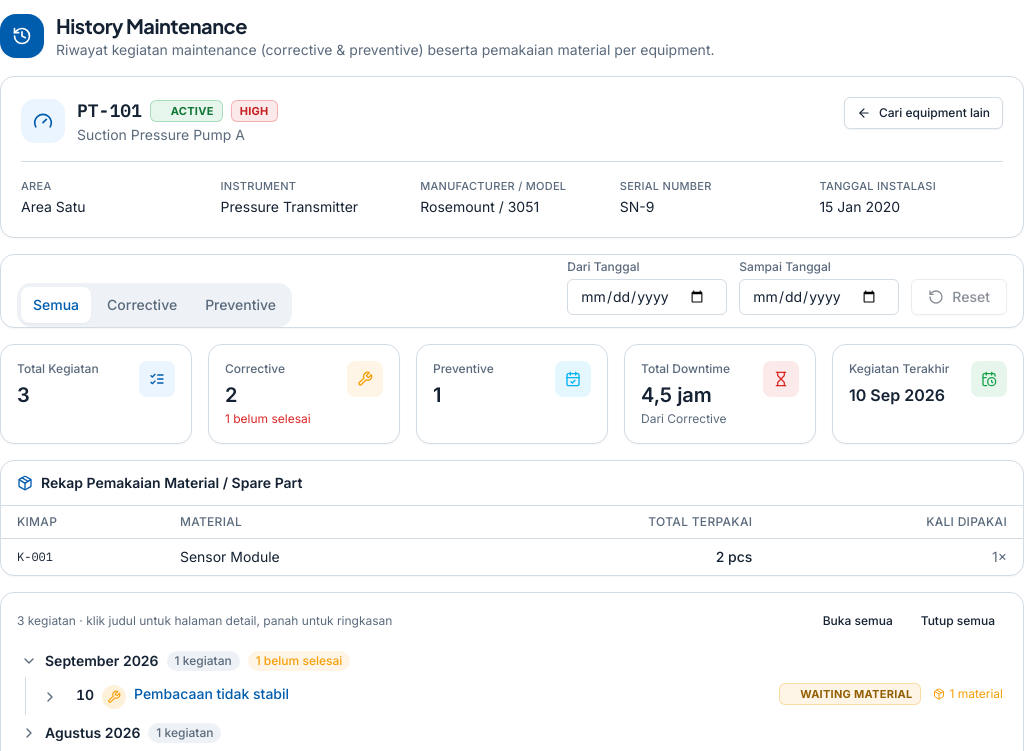
Test case: MaintenanceHistoryPage › "Cari equipment lain" kembali ke pencarian
Expected: the heading "PT-101" is shown, [77,97,142,125]
Click the button "Cari equipment lain" at (924, 113), box [844,97,1003,129]
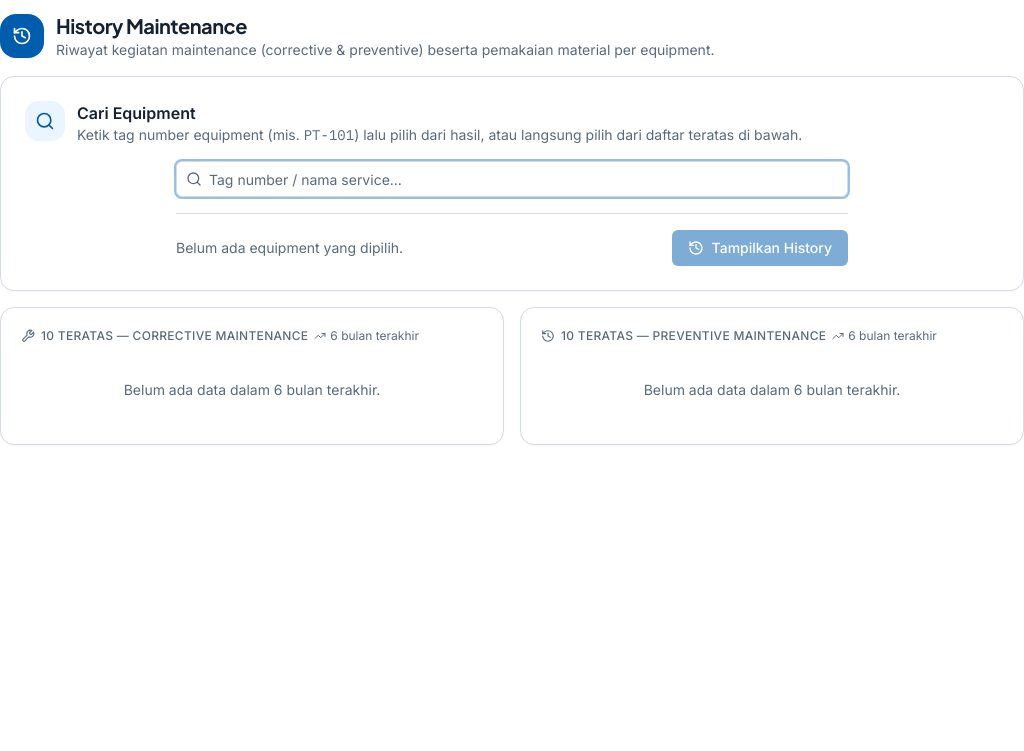
Now the field named "cari tag number" is shown, box [176,161,848,197]
